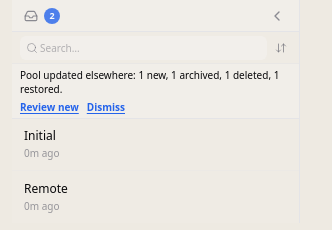
Test: ScratchPool › aggregates Pool activity and clears arrival and lifecycle categories independently with exact focus
Step 1. Click the button "Review new" → {"x": 49, "y": 107}, box [20,100,79,114]
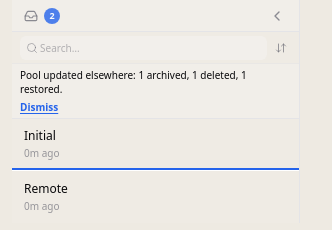
Result: the text "Pool updated elsewhere: 1 archived, 1 deleted, 1 restored." is shown at [20,68,247,96]
Step 2. Click the button "Dismiss" → {"x": 39, "y": 107}, box [20,100,58,114]
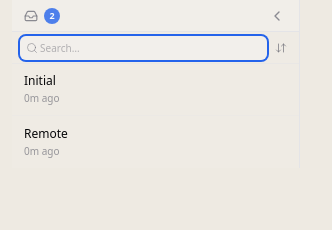
Result: the text "Pool updated elsewhere:" is gone
